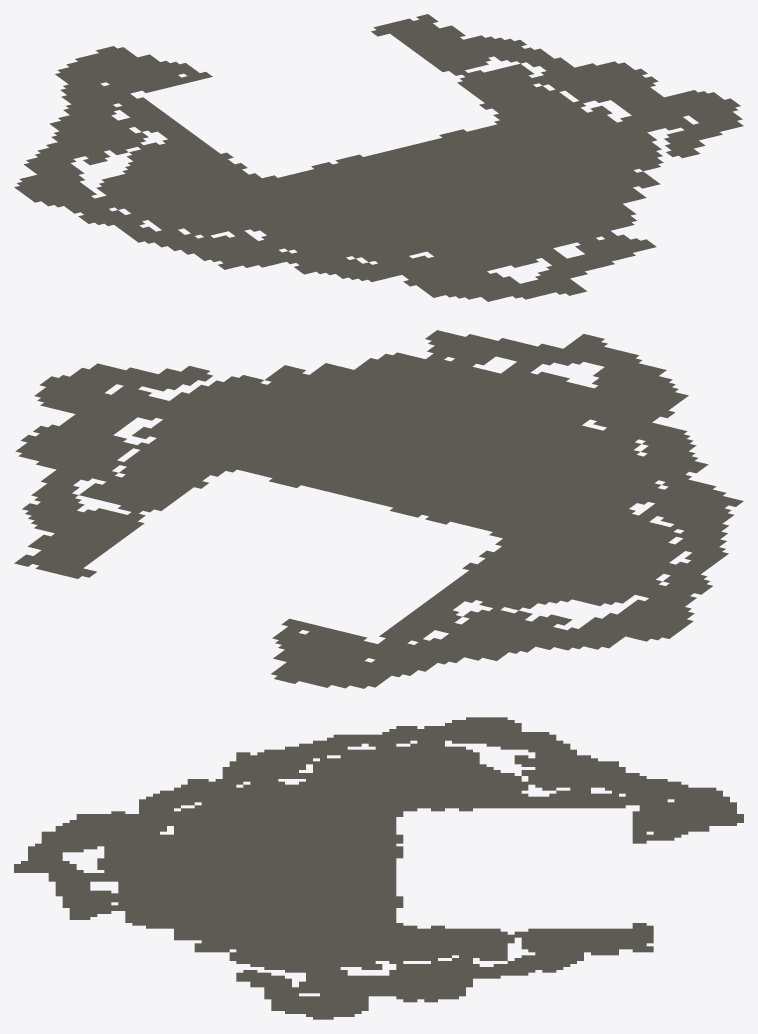
Rendered from Isl-orc5-NoBuildArea.fbx.
3 views of the same model, one above another, from view 1: azimuth 30°, elevation 25°; view 2: azimuth 150°, elevation 25°; view 3: azimuth 270°, elevation 25° (orthographic). The views are drawn at different scales.
Visible parts, largest first — view 1: Isl-orc5-NoBuildArea; view 2: Isl-orc5-NoBuildArea; view 3: Isl-orc5-NoBuildArea.
Part boxes in pixels (x1=…): Isl-orc5-NoBuildArea: x1=14, y1=14, x2=743, y2=301; Isl-orc5-NoBuildArea: x1=14, y1=330, x2=743, y2=688; Isl-orc5-NoBuildArea: x1=14, y1=717, x2=743, y2=1019.
Bounding box in the file's own units: 103 × 0 × 105.
